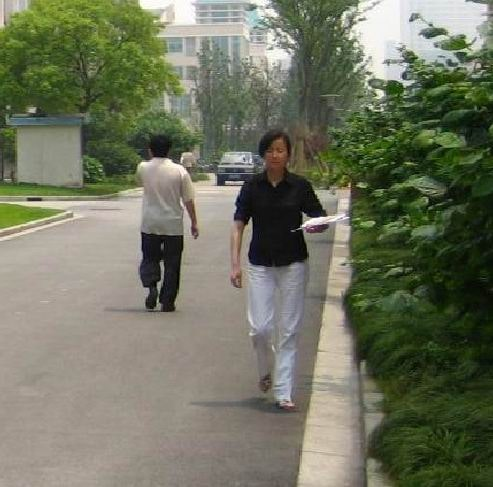pedestrian: (257, 122, 346, 423), (107, 130, 216, 314)
